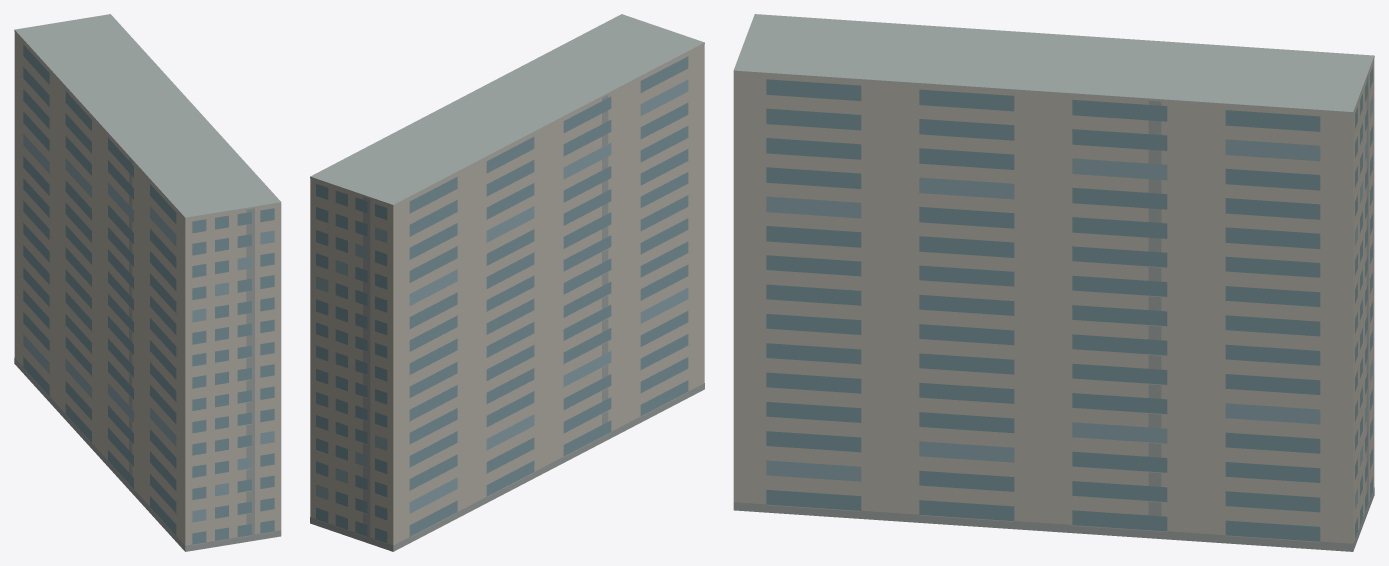
Rendered from residential-bd205b30-f300-472d-831b-af7f3d122496.glb.
3 renders of one model, left to right at view 1: azimuth 30°, elevation 25°; view 2: azimuth 150°, elevation 25°; view 3: azimuth 270°, elevation 25°, orthographic. The views are drawn at different scales.
Parts seen in each view (by area): view 1: residential-bd205b30-f300-472d-831b-af7f3d122496.tmp; view 2: residential-bd205b30-f300-472d-831b-af7f3d122496.tmp; view 3: residential-bd205b30-f300-472d-831b-af7f3d122496.tmp.
Boxes of the visible parts, x1,y1,x2,y2 form: residential-bd205b30-f300-472d-831b-af7f3d122496.tmp: (14,14,281,551); residential-bd205b30-f300-472d-831b-af7f3d122496.tmp: (310,14,704,551); residential-bd205b30-f300-472d-831b-af7f3d122496.tmp: (733,14,1374,551).
Bounding box in the file's own units: 21.9 × 45.75 × 60.44.
